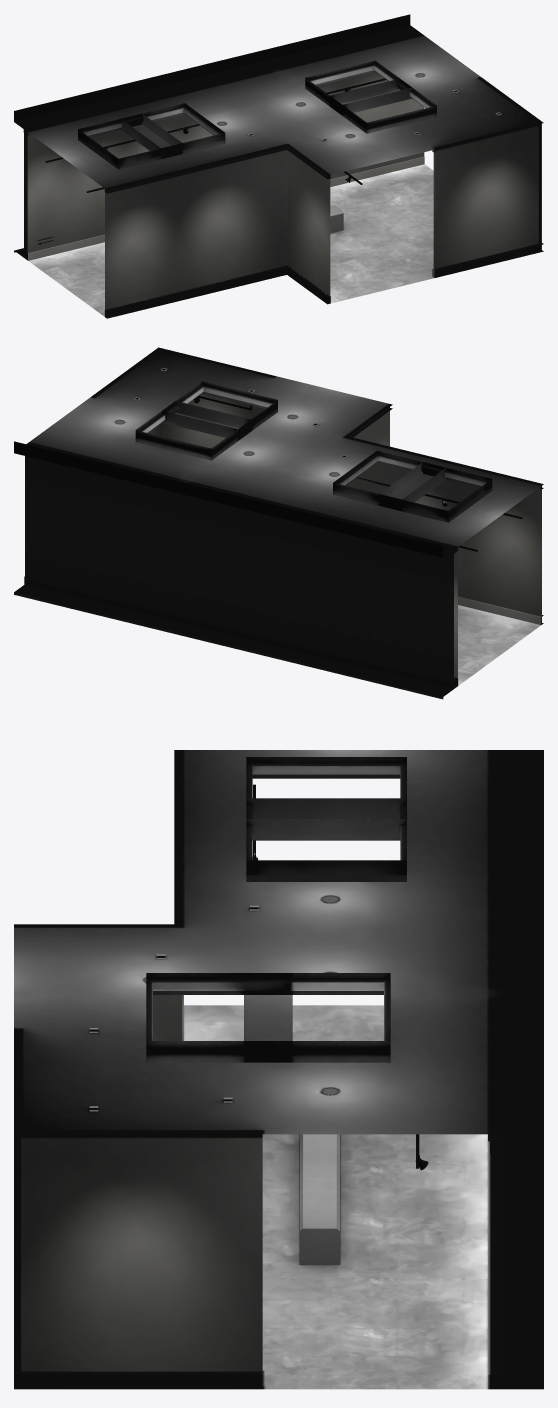
The model's file is Room_5.glb.
3 renders of one model, top to bottom at view 1: azimuth 30°, elevation 25°; view 2: azimuth 150°, elevation 25°; view 3: azimuth 270°, elevation 25°, orthographic. The views are drawn at different scales.
Visible parts, largest first — view 1: room_5.001; view 2: room_5.001; view 3: room_5.001.
Boxes of the visible parts, left/top/right/bottom form: room_5.001: left=14, top=14, right=543, bottom=318; room_5.001: left=14, top=347, right=543, bottom=699; room_5.001: left=14, top=750, right=543, bottom=1389.
Bounding box in the file's own units: 9.71 × 3.32 × 5.66.
3 materials, 3 textured.
